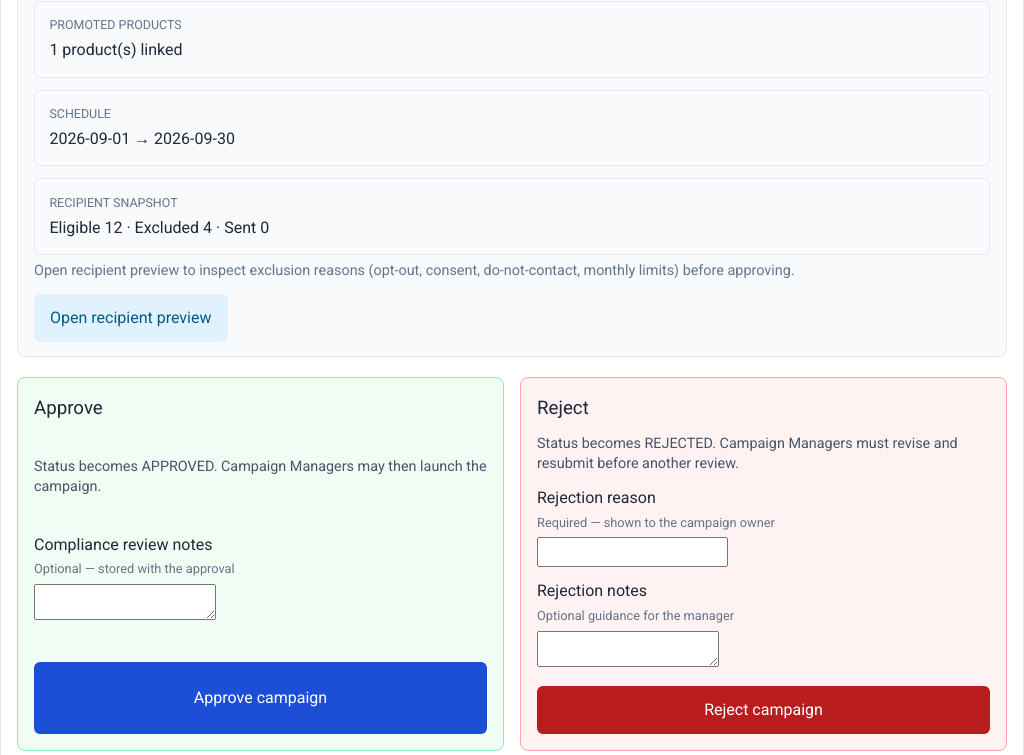
it: CompliancePage (item 593) › approves a submitted campaign with confirmation and review notes
(page scrolled)
Type "Approved wording" into the text box labelled "Compliance review notes".
click(125, 602); type("Approved wording")  # box [34, 584, 216, 620]
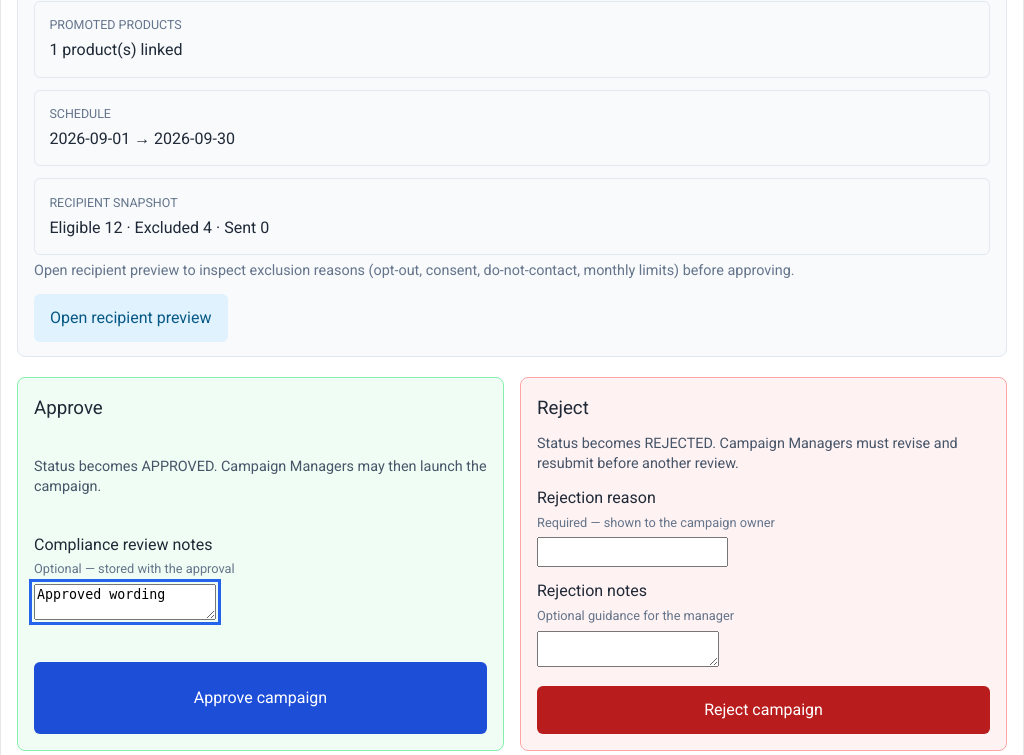
Click the button "Approve campaign".
click(260, 698)  # box [34, 662, 487, 734]
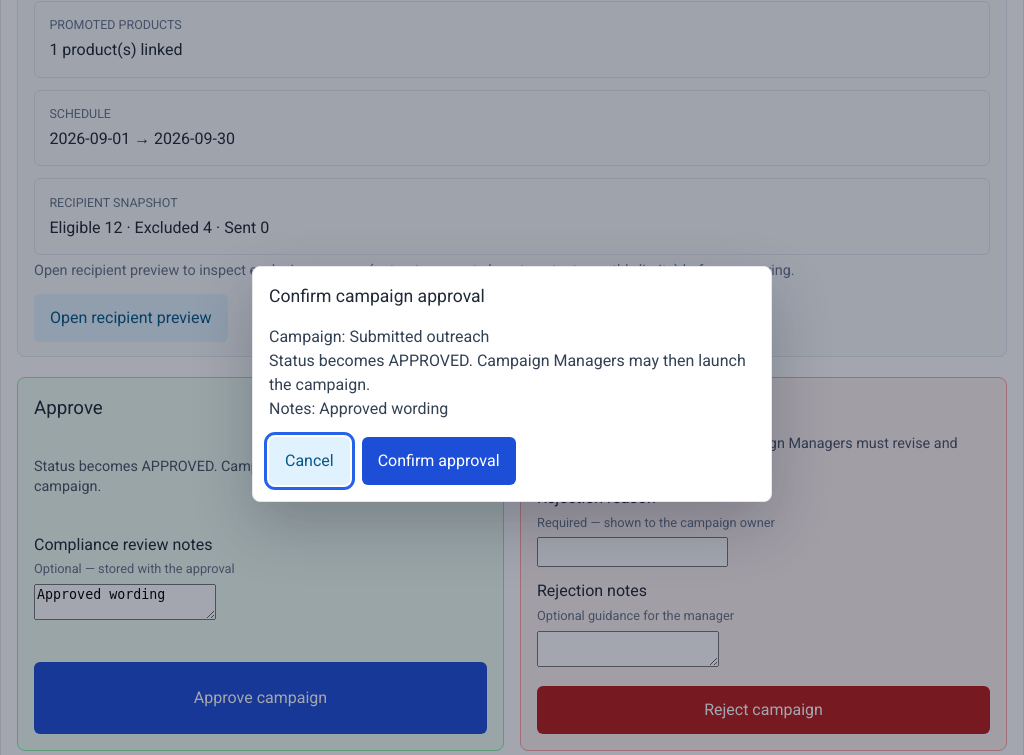
Result: the dialog is shown at [252, 266, 772, 502]
Result: the heading "Confirm campaign approval" is shown at [269, 283, 485, 309]
Result: the text "Status becomes APPROVED" is shown at [269, 351, 746, 394]
Click the button "Confirm approval".
click(439, 461)  # box [362, 437, 516, 485]
(page scrolled)
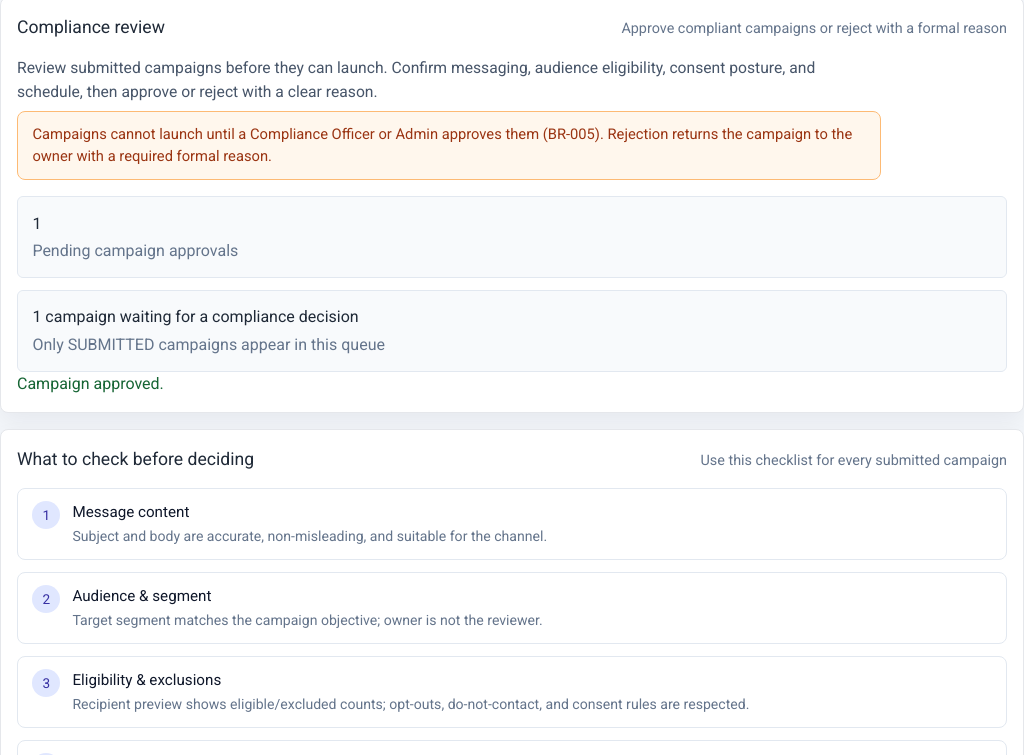
Result: the message with test id "compliance-decision-notice" reads "Campaign approved." at [17, 374, 164, 393]
